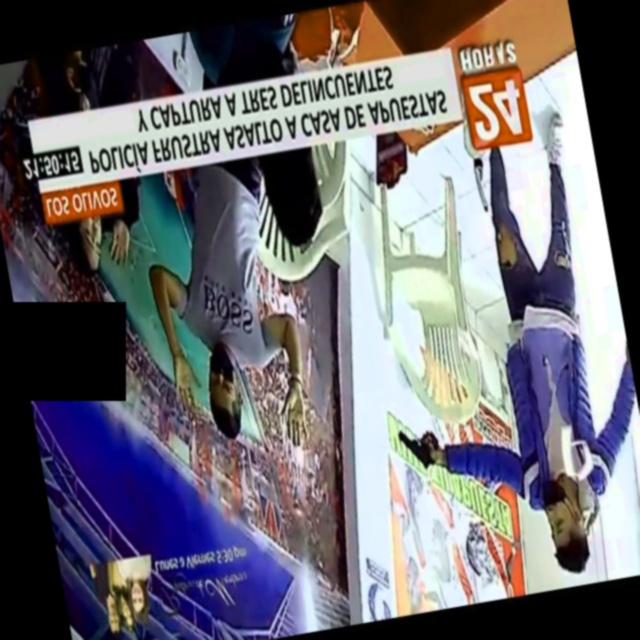gun: (385, 406, 454, 498)
